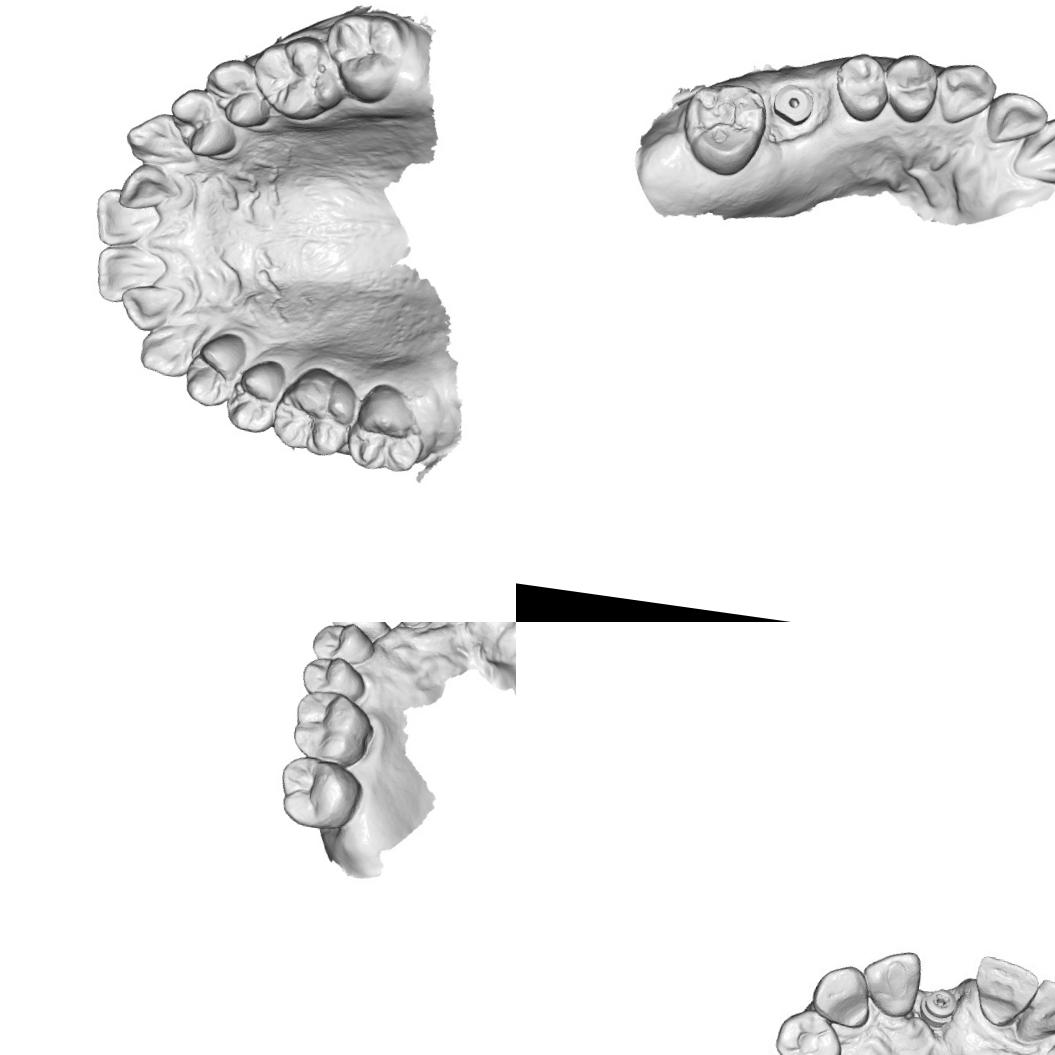canine: (118, 108, 202, 174), (933, 58, 1001, 130), (806, 960, 875, 1030), (136, 318, 198, 380), (320, 622, 395, 643)
implant: (771, 81, 816, 128), (397, 622, 434, 633)
implant_plus: (918, 984, 963, 1032)
incisor: (966, 954, 1040, 1030), (88, 184, 166, 253), (92, 242, 170, 308), (861, 944, 924, 1020), (984, 86, 1052, 154), (117, 278, 188, 336), (114, 160, 184, 218), (1009, 111, 1055, 189), (1022, 974, 1055, 1041)
molar: (245, 27, 354, 127), (676, 76, 771, 181), (267, 359, 362, 461), (317, 8, 411, 106), (342, 380, 435, 478), (288, 686, 380, 772), (275, 752, 366, 835), (768, 1003, 845, 1055)
premolar: (198, 52, 278, 132), (164, 84, 244, 162), (181, 327, 249, 411), (222, 356, 288, 438), (828, 50, 892, 125), (882, 49, 941, 126), (297, 652, 368, 704), (309, 622, 379, 667)
